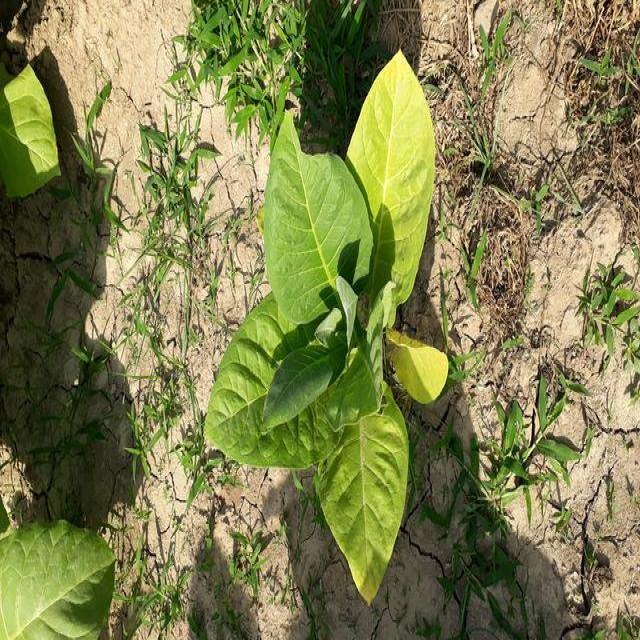crop: (190, 47, 452, 613)
